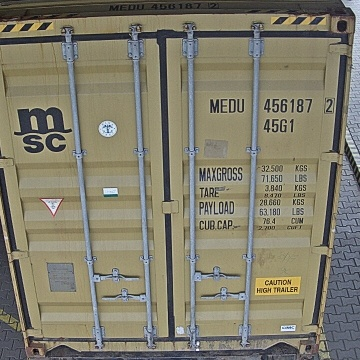serial_id: (210, 97, 334, 112)
